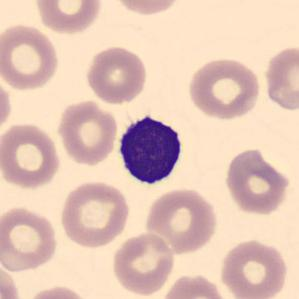Lymphocyte: (112, 108, 189, 190)
RBC: (143, 185, 219, 256), (57, 178, 132, 249), (185, 55, 263, 121), (222, 146, 292, 217), (109, 230, 177, 297), (217, 237, 290, 299), (54, 98, 119, 166), (0, 120, 63, 190), (0, 21, 62, 92), (0, 204, 60, 274), (83, 44, 150, 105), (261, 43, 298, 113), (33, 0, 104, 36), (160, 272, 232, 299), (107, 0, 185, 17), (22, 283, 92, 299), (0, 72, 14, 136), (0, 259, 22, 298)
